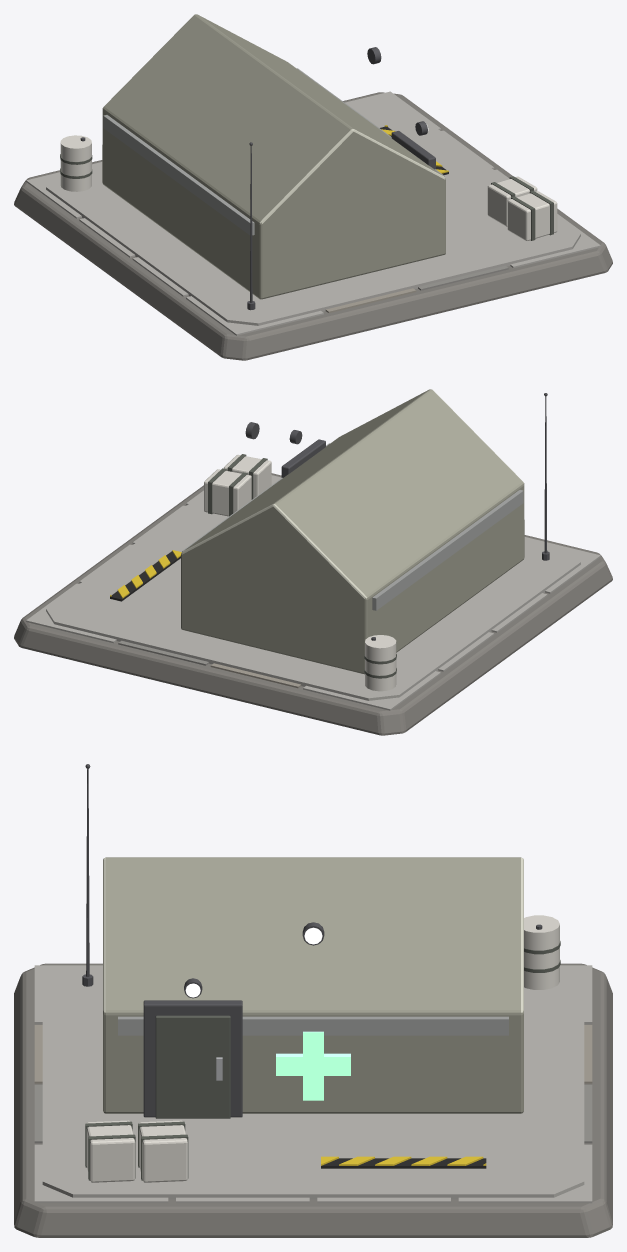
File: field_hospital_neutral.glb
3 views of the same model, one above another, from view 1: azimuth 30°, elevation 25°; view 2: azimuth 150°, elevation 25°; view 3: azimuth 270°, elevation 25° (orthographic). The views are drawn at different scales.
Visible parts, largest first — view 1: Body; view 2: Body; view 3: Body.
Part boxes in pixels (bbox=[...]): Body: bbox=[14, 14, 612, 360]; Body: bbox=[14, 389, 612, 735]; Body: bbox=[14, 764, 612, 1237].
Bounding box in the file's own units: 3.98 × 1.86 × 3.98.
Materials: 1 (1 with a texture image).
